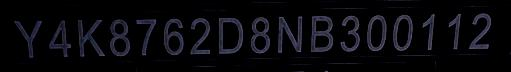letter: (303, 11, 337, 55), (11, 18, 47, 58), (73, 15, 107, 57), (272, 11, 304, 55), (44, 17, 75, 59), (214, 15, 246, 55), (467, 10, 497, 52), (132, 15, 162, 57), (105, 16, 134, 58), (187, 14, 214, 58), (365, 11, 390, 57), (388, 12, 416, 53), (416, 12, 443, 54), (337, 13, 363, 55), (443, 9, 467, 53), (248, 13, 273, 55), (161, 17, 186, 57)
